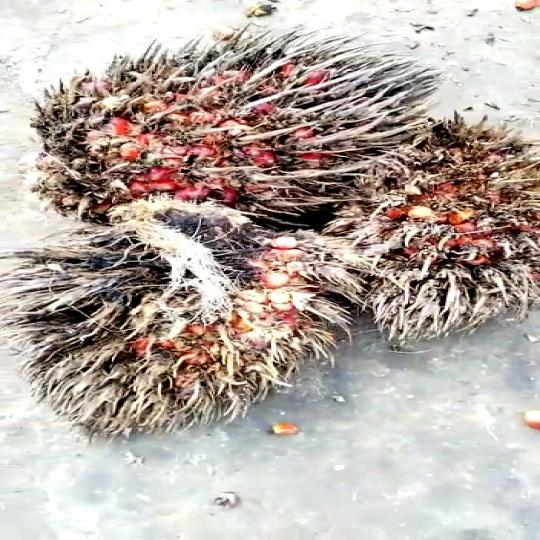terlalu masak: (19, 28, 451, 231), (0, 218, 376, 430), (304, 114, 540, 346)
